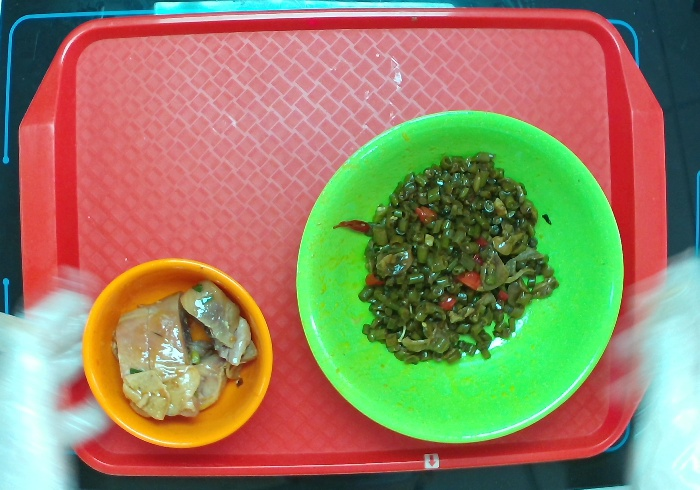YKMZ-Ju_Se_Yuan_Wan: (82, 256, 274, 449)
YKMZ-Lv_Se_Tang_Wan: (289, 105, 627, 444)
